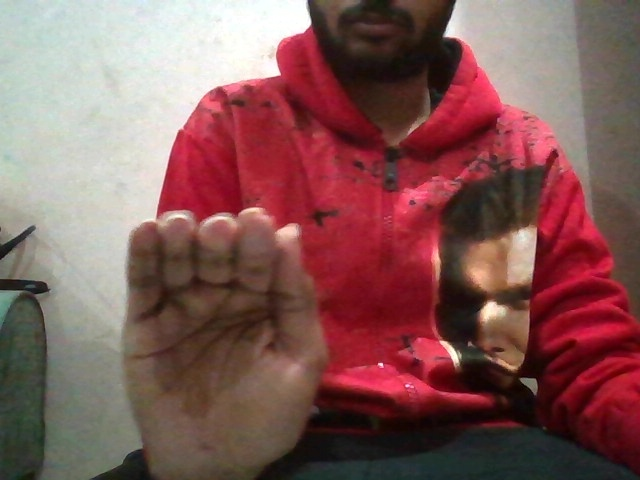C: (103, 202, 335, 476)
